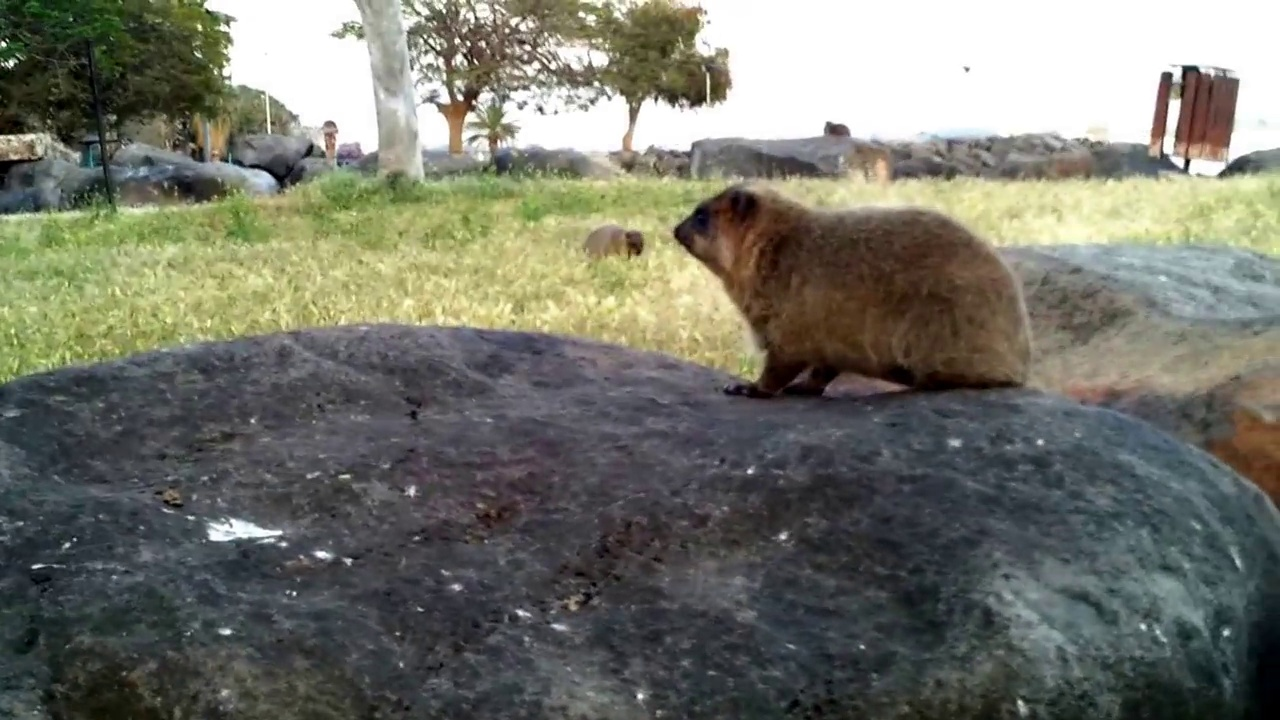Rock Hyrex: (673, 180, 1041, 409), (568, 223, 651, 266), (817, 119, 854, 137)
